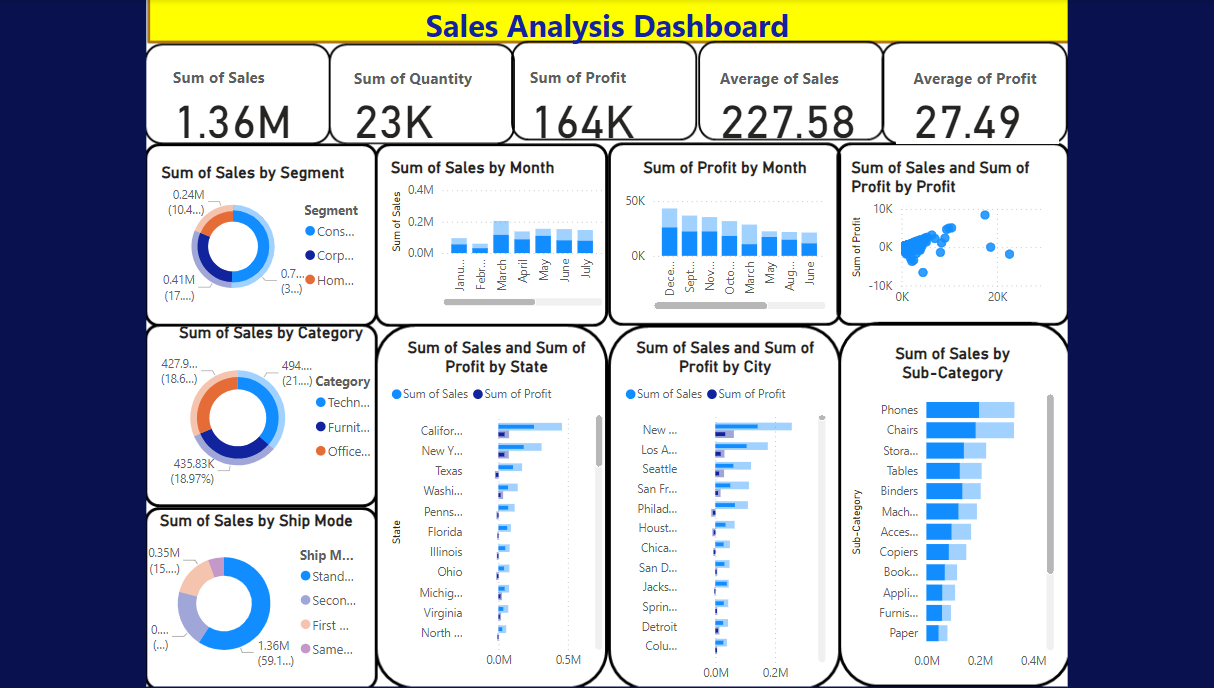

The dashboard page shown, as its layout file describes it:
{"tool":"powerbi","page":{"name":"Page 4","canvas":[1280,720],"ordinal":6},"visuals":[{"type":"donutChart","fields":{"Category":["Orders.Segment"],"Y":["Sum(Orders.Sales)"]},"box":[170.1,170.1,223,155],"z":0},{"type":"columnChart","fields":{"Category":["Orders.Order Date.Variation.Date Hierarchy.Month"],"Y":["Sum(Orders.Sales)"]},"box":[410.1,166.3,230.6,158.7],"z":1000},{"type":"columnChart","fields":{"Y":["Sum(Orders.Profit)"],"Category":["Orders.Order Date.Variation.Date Hierarchy.Month"]},"box":[653.3,165.7,218.8,162.6],"z":2000},{"type":"scatterChart","fields":{"X":["Sum(Orders.Sales)"],"Y":["Sum(Orders.Profit)"],"Category":["Orders.Profit"]},"box":[890.1,166.3,221.1,162.5],"z":3000},{"type":"textbox","box":[156.9,0,967.6,52.9],"z":4000},{"type":"clusteredBarChart","fields":{"Y":["Sum(Orders.Sales)"],"Category":["Orders.Sub-Category"]},"box":[890.1,359.1,221.1,347.7],"z":5000},{"type":"clusteredBarChart","fields":{"Y":["Sum(Orders.Sales)","Sum(Orders.Profit)"],"Category":["Orders.City"]},"box":[653.9,353.4,219.2,366.6],"z":6000},{"type":"clusteredBarChart","fields":{"Category":["Orders.State"],"Y":["Sum(Orders.Sales)","Sum(Orders.Profit)"]},"box":[410.1,353.4,230.6,353.4],"z":7000},{"type":"donutChart","fields":{"Y":["Sum(Orders.Sales)"],"Category":["Orders.Category"]},"box":[168.2,338.3,241.9,177.6],"z":8000},{"type":"donutChart","fields":{"Category":["Orders.Ship Mode"],"Y":["Sum(Orders.Sales)"]},"box":[156.9,532.9,236.2,173.9],"z":9000},{"type":"cardVisual","fields":{"Data":["Sum(Orders.Sales)"]},"box":[170.1,52.9,166.3,98.3],"z":10000},{"type":"cardVisual","fields":{"Data":["Sum(Orders.Quantity)"]},"box":[357.2,52.9,168.2,98.3],"z":11000},{"type":"cardVisual","fields":{"Data":["Avg(Orders.Sales)"]},"box":[738.9,52.9,187.1,98.3],"z":12000},{"type":"cardVisual","fields":{"Data":["Avg(Orders.Profit)"]},"box":[941.1,52.9,170.1,98.3],"z":13000},{"type":"cardVisual","fields":{"Data":["Sum(Orders.Profit)"]},"box":[542.4,53.1,198.5,98.5],"z":14000}]}

Visuals, with their boxes in screenshot pixels (x1, y1, x2, y2), scaled from the page's 1280x720 canvas onto the 1214x688 screenshot:
donutChart - Orders.Segment x Sum(Orders.Sales): bbox=[161, 163, 373, 311]
columnChart - Orders.Order Date.Variation.Date Hierarchy.Month x Sum(Orders.Sales): bbox=[389, 159, 608, 311]
columnChart - Sum(Orders.Profit) x Orders.Order Date.Variation.Date Hierarchy.Month: bbox=[620, 158, 827, 314]
scatterChart - Sum(Orders.Sales) x Sum(Orders.Profit): bbox=[844, 159, 1054, 314]
textbox: bbox=[149, 0, 1067, 51]
clusteredBarChart - Sum(Orders.Sales) x Orders.Sub-Category: bbox=[844, 343, 1054, 675]
clusteredBarChart - Sum(Orders.Sales) x Sum(Orders.Profit): bbox=[620, 338, 828, 687]
clusteredBarChart - Orders.State x Sum(Orders.Sales): bbox=[389, 338, 608, 675]
donutChart - Sum(Orders.Sales) x Orders.Category: bbox=[160, 323, 389, 493]
donutChart - Orders.Ship Mode x Sum(Orders.Sales): bbox=[149, 509, 373, 675]
cardVisual - Sum(Orders.Sales): bbox=[161, 51, 319, 144]
cardVisual - Sum(Orders.Quantity): bbox=[339, 51, 498, 144]
cardVisual - Avg(Orders.Sales): bbox=[701, 51, 878, 144]
cardVisual - Avg(Orders.Profit): bbox=[893, 51, 1054, 144]
cardVisual - Sum(Orders.Profit): bbox=[514, 51, 703, 145]
